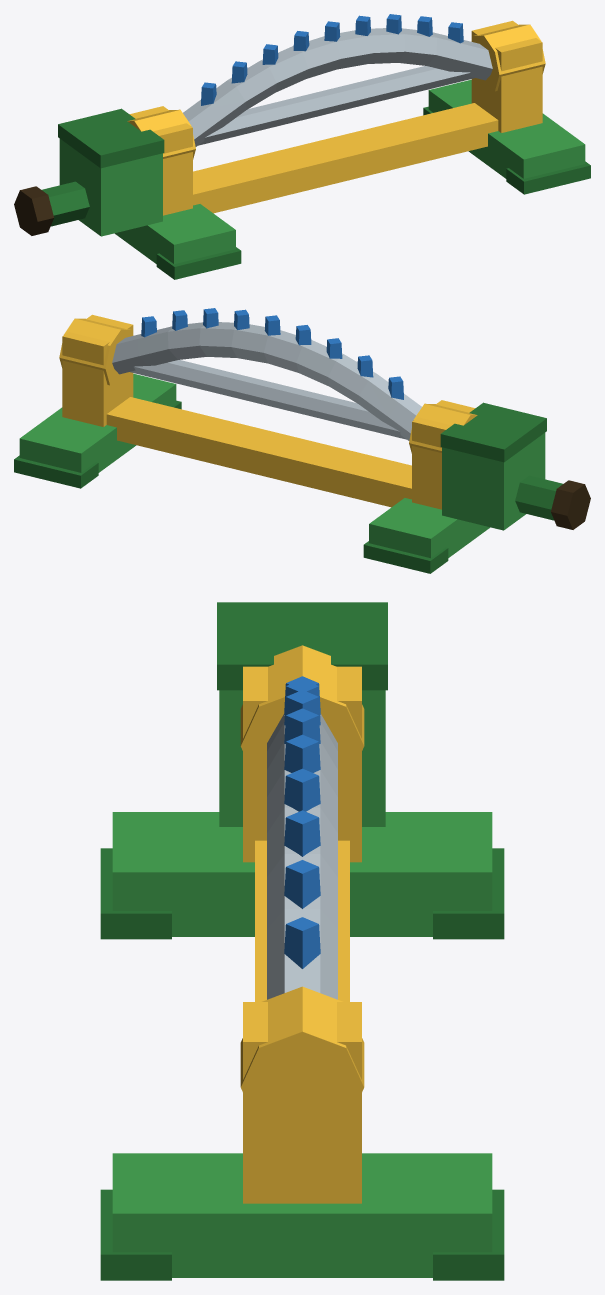
File: garden-sprinkler.glb
3 renders of one model, top to bottom at view 1: azimuth 30°, elevation 25°; view 2: azimuth 150°, elevation 25°; view 3: azimuth 270°, elevation 25°, orthographic. The views are drawn at different scales.
Visible parts, largest first — view 1: garden-sprinkler, arm; view 2: garden-sprinkler, arm; view 3: garden-sprinkler, arm.
Part boxes in pixels (bbox=[...]): garden-sprinkler: bbox=[14, 20, 590, 279]; arm: bbox=[183, 14, 492, 146]; garden-sprinkler: bbox=[14, 314, 590, 573]; arm: bbox=[112, 308, 421, 440]; garden-sprinkler: bbox=[100, 602, 504, 1280]; arm: bbox=[267, 676, 337, 999].
Bounding box in the file's own units: 0.4104 × 0.1279 × 0.1394.
